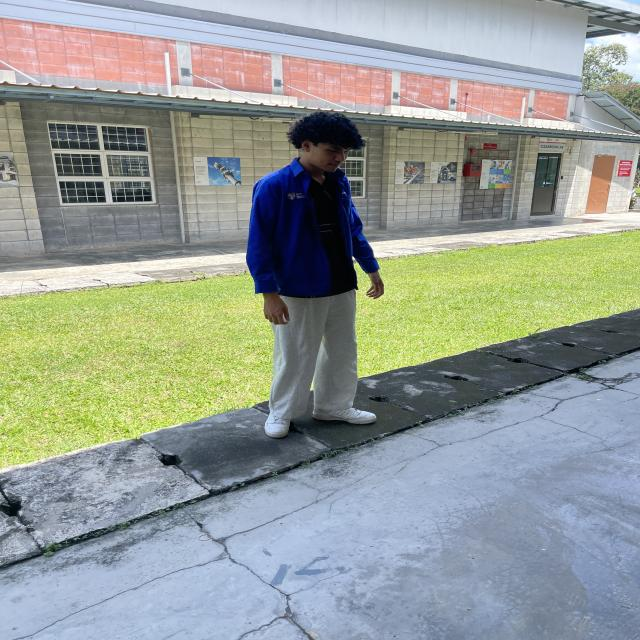person_with_labcoat: (247, 112, 384, 438)
